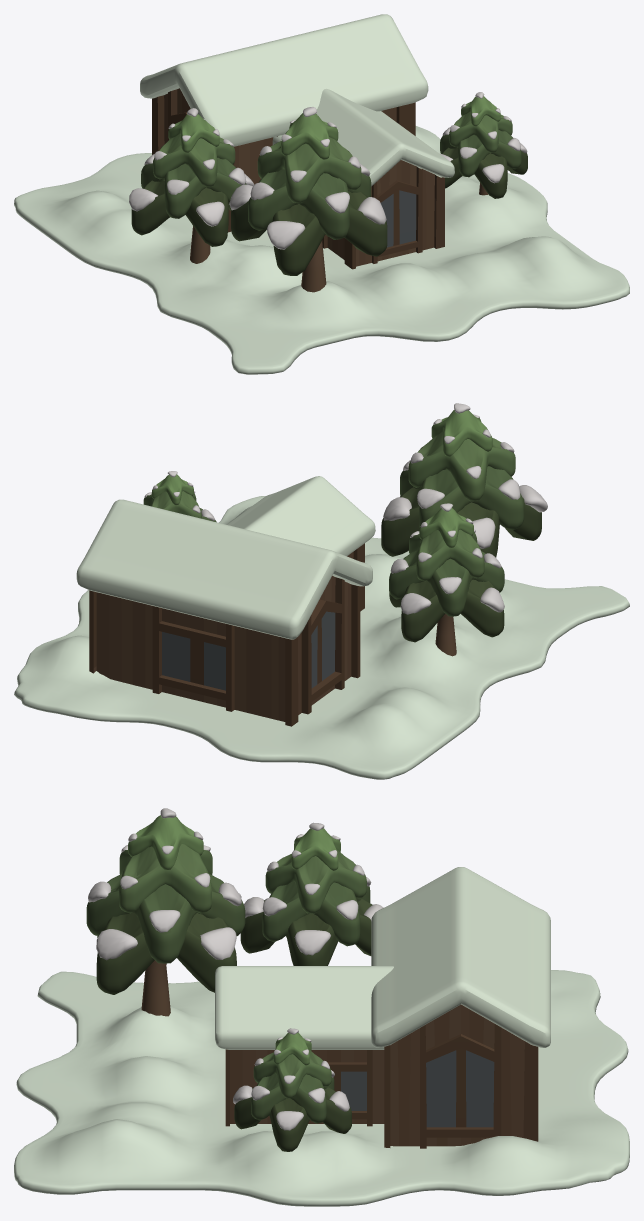
The model's file is Cabin1.fbx.
3 renders of one model, top to bottom at view 1: azimuth 30°, elevation 25°; view 2: azimuth 150°, elevation 25°; view 3: azimuth 270°, elevation 25°, orthographic. The views are drawn at different scales.
Parts seen in each view (by area): view 1: group16_pasted__group13_pasted__pasted__group12_pasted__past; view 2: group16_pasted__group13_pasted__pasted__group12_pasted__past; view 3: group16_pasted__group13_pasted__pasted__group12_pasted__past.
Part boxes in pixels (x1,y1,x2,y2): group16_pasted__group13_pasted__pasted__group12_pasted__past: [14, 14, 629, 374]; group16_pasted__group13_pasted__pasted__group12_pasted__past: [14, 403, 629, 779]; group16_pasted__group13_pasted__pasted__group12_pasted__past: [14, 808, 629, 1206].
Size of the model in its own units: 7.62 by 3.6 by 8.57.
